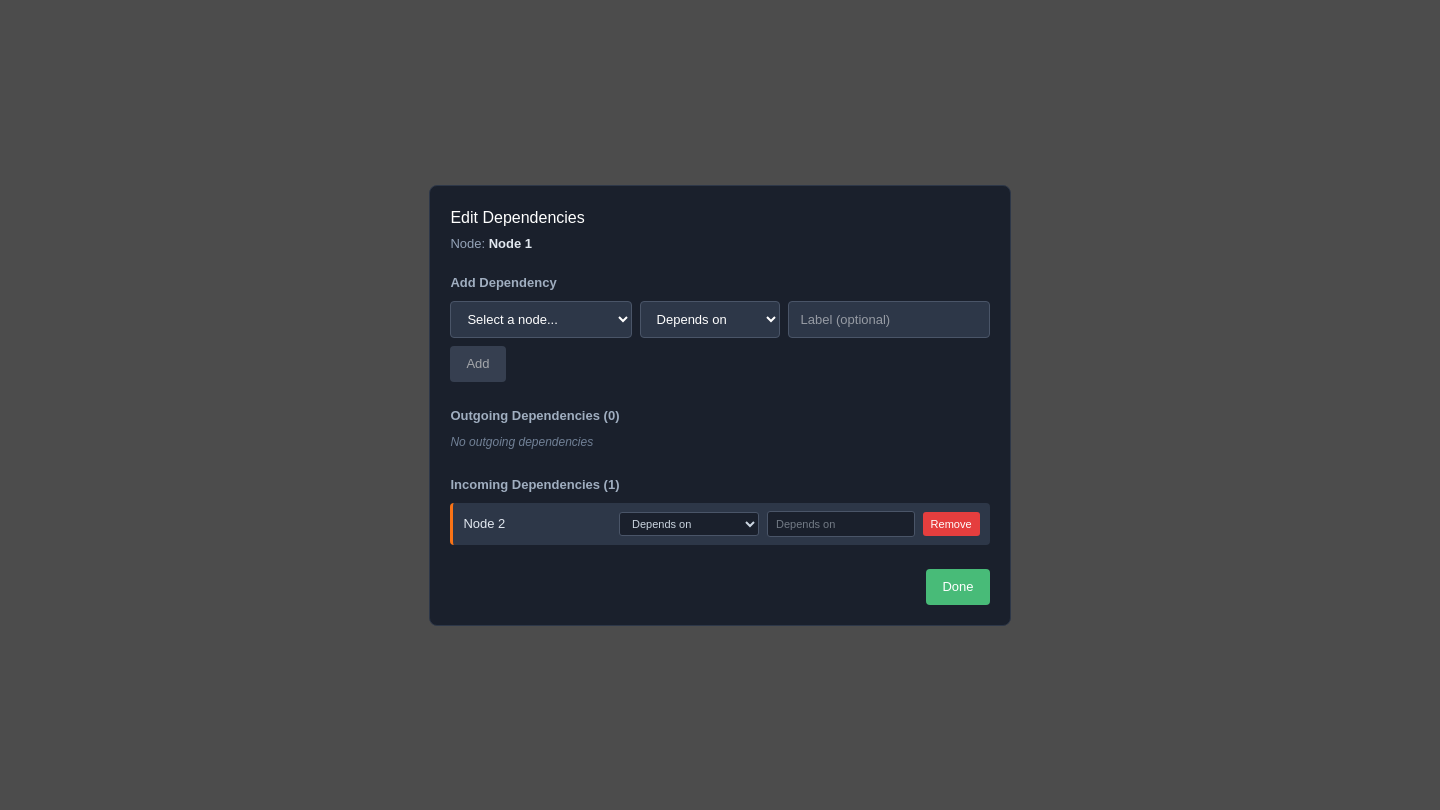
Scenario: DependencyEditor › prevents adding a dependency that would create a cycle
Select "Node 2" in the dropdown labelled "Add Dependency" at (541, 319), box left=450, top=300, right=632, bottom=338
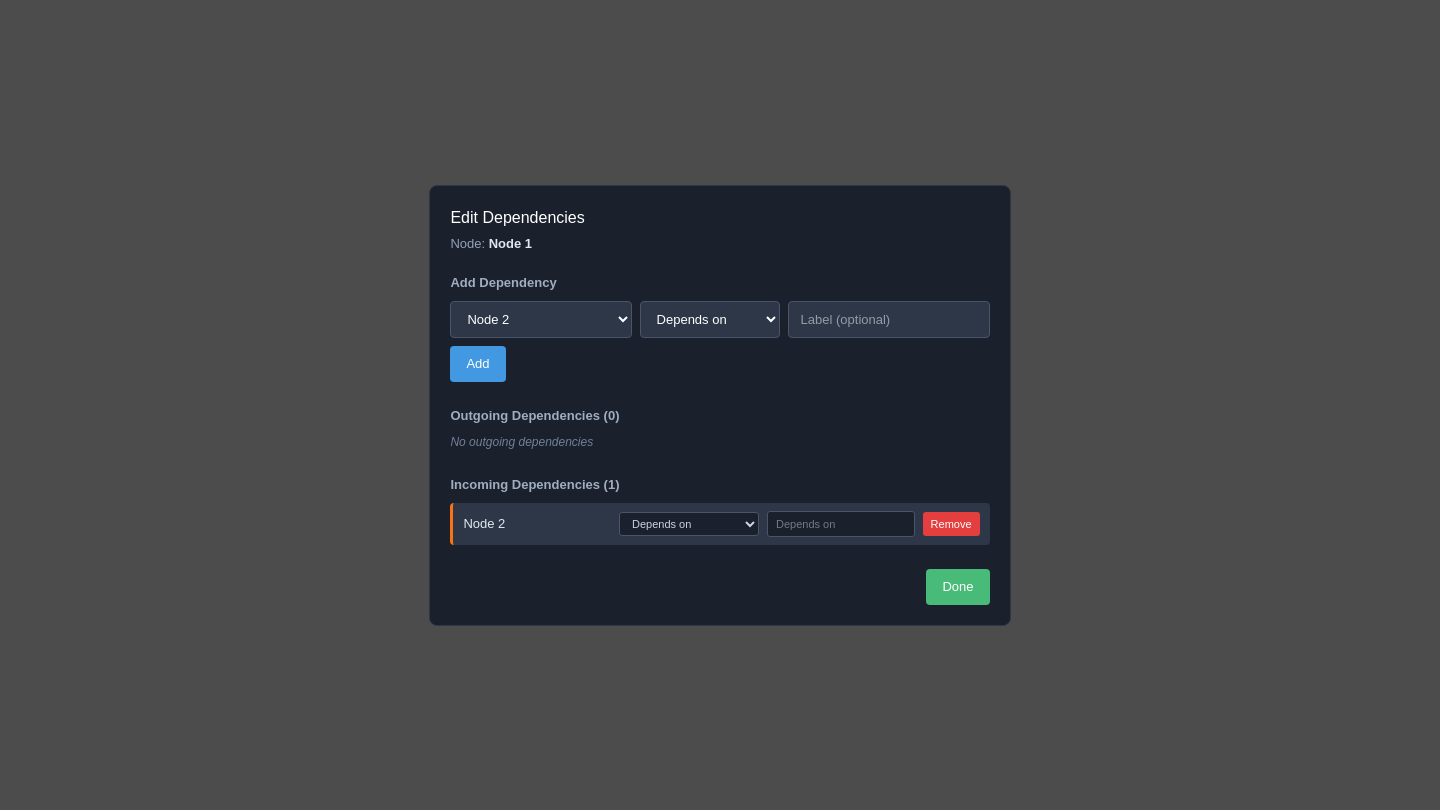
Click the button "Add".
click(478, 364)  # box left=450, top=346, right=506, bottom=382
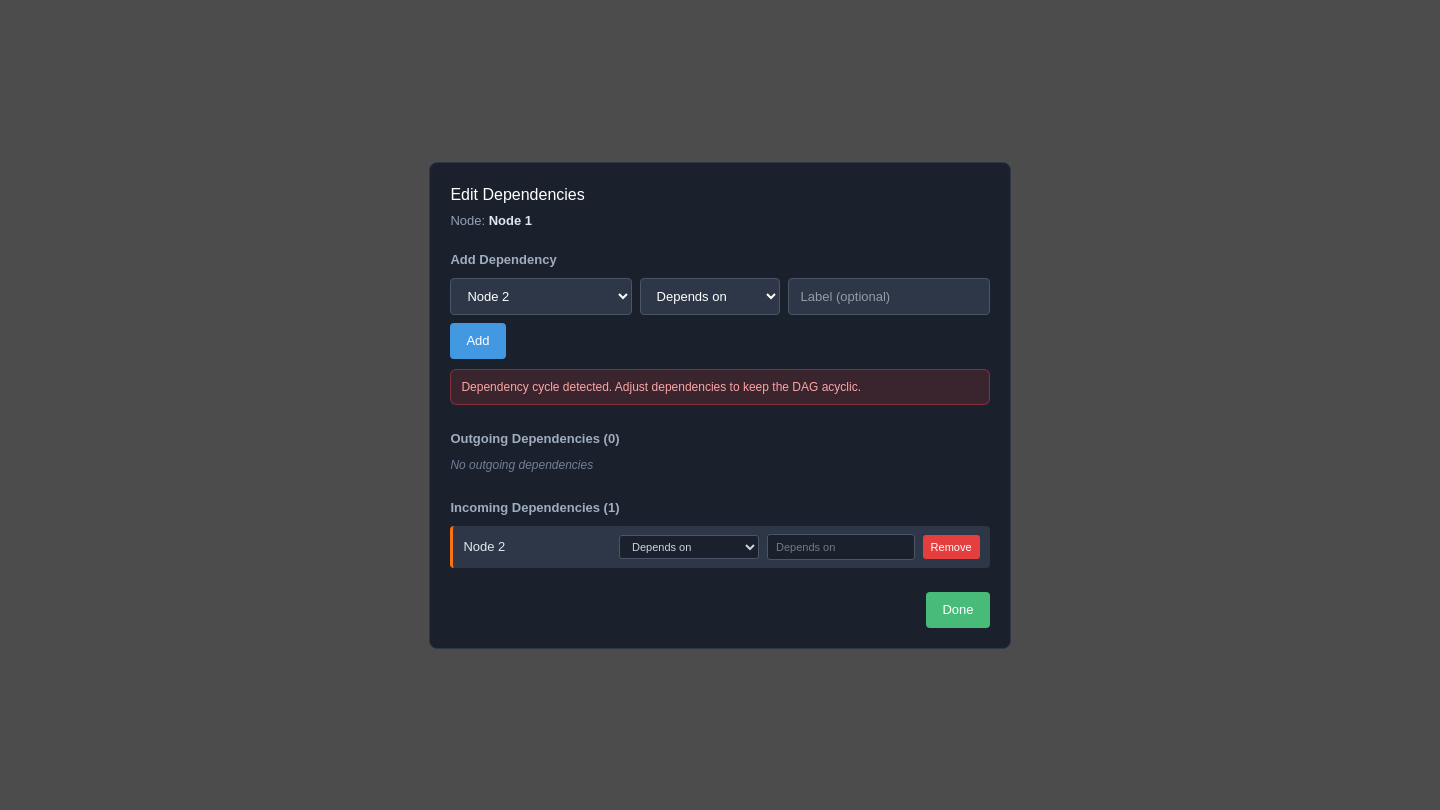
expect the message shows "Dependency cycle detected": met, box left=461, top=380, right=861, bottom=394
